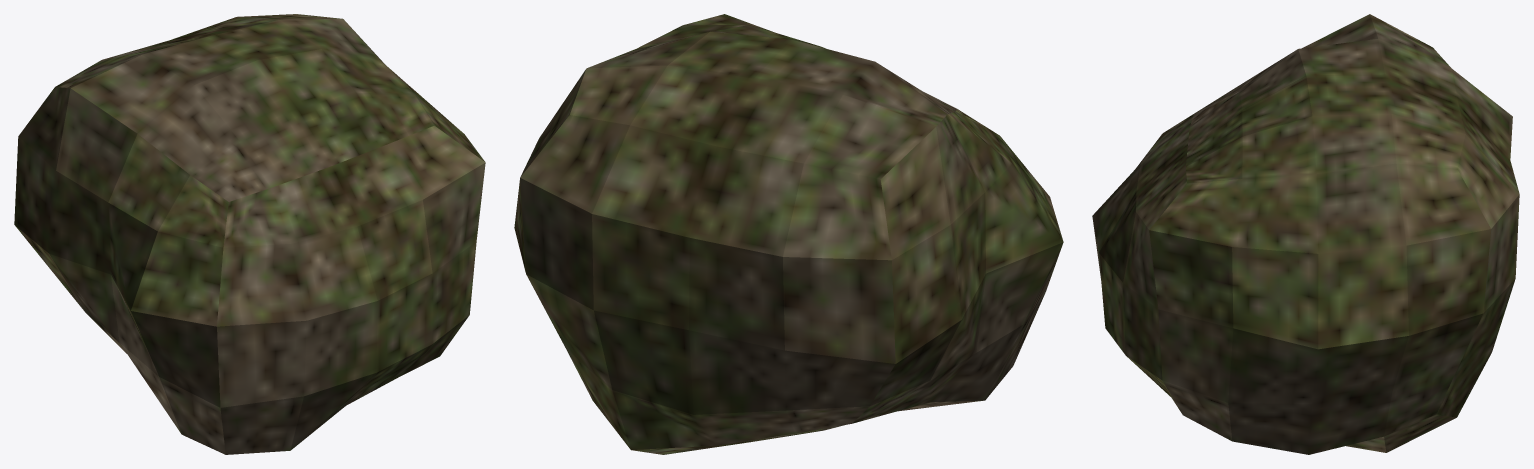
Rendered from SM_EC_Rock_87.fbx.
3 views of the same model, side by side, from view 1: azimuth 30°, elevation 25°; view 2: azimuth 150°, elevation 25°; view 3: azimuth 270°, elevation 25° (orthographic). The views are drawn at different scales.
Parts seen in each view (by area): view 1: SM_EC_Rock_87; view 2: SM_EC_Rock_87; view 3: SM_EC_Rock_87.
Boxes of the visible parts, x1,y1,x2,y2 form: SM_EC_Rock_87: (14, 14, 485, 454); SM_EC_Rock_87: (514, 14, 1063, 454); SM_EC_Rock_87: (1092, 14, 1519, 454).
Size of the model in its own units: 0.5672 by 0.5319 by 0.4707.
